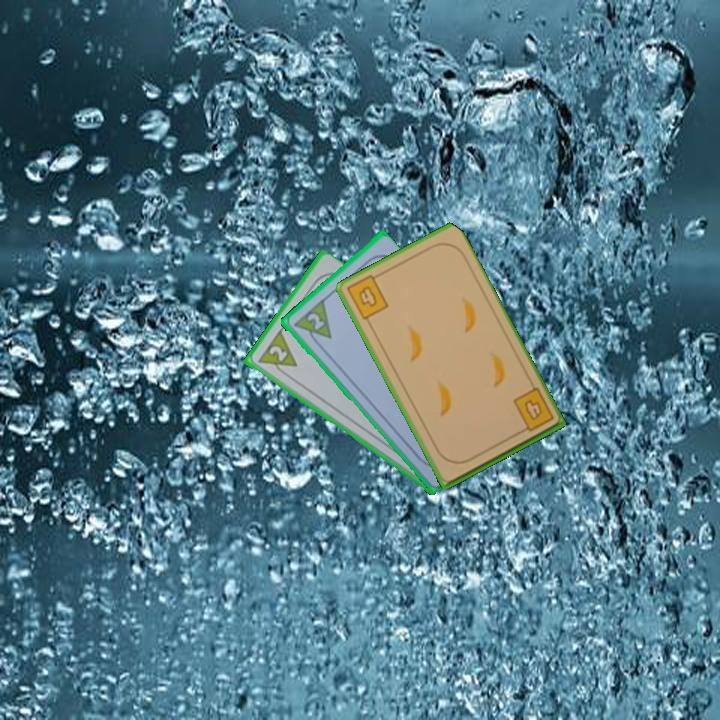2p: (289, 297, 334, 350), (265, 342, 290, 365)
4b: (343, 270, 391, 323), (509, 384, 557, 437)
